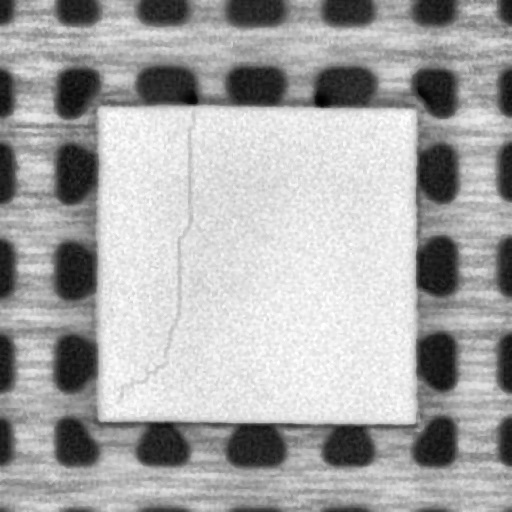DIE_CRACK: (108, 112, 202, 395)
